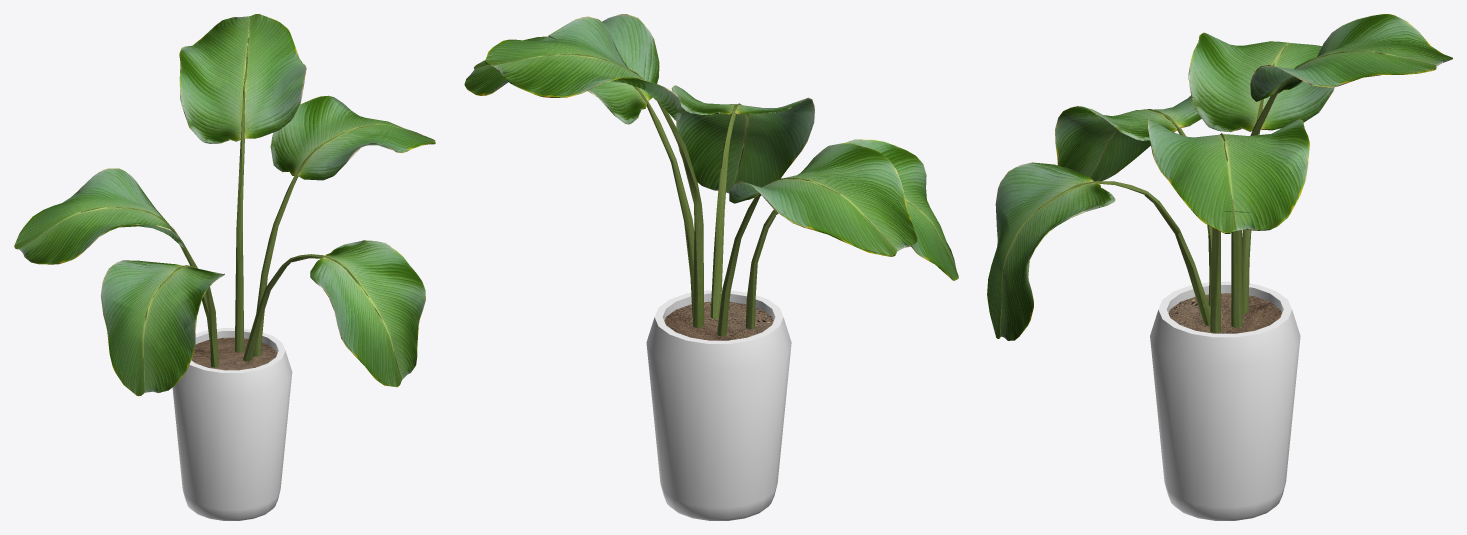
Rendered from Plant.FBX.
3 views of the same model, side by side, from view 1: azimuth 30°, elevation 25°; view 2: azimuth 150°, elevation 25°; view 3: azimuth 270°, elevation 25° (orthographic). The views are drawn at different scales.
Visible parts, largest first — view 1: plant; view 2: plant; view 3: plant.
Boxes of the visible parts, bbox=[...] form: plant: bbox=[14, 14, 435, 520]; plant: bbox=[464, 14, 958, 520]; plant: bbox=[987, 14, 1452, 520].
Bounding box in the file's own units: 65.01 × 64.28 × 54.64.
Materials: 2 (2 with a texture image).
